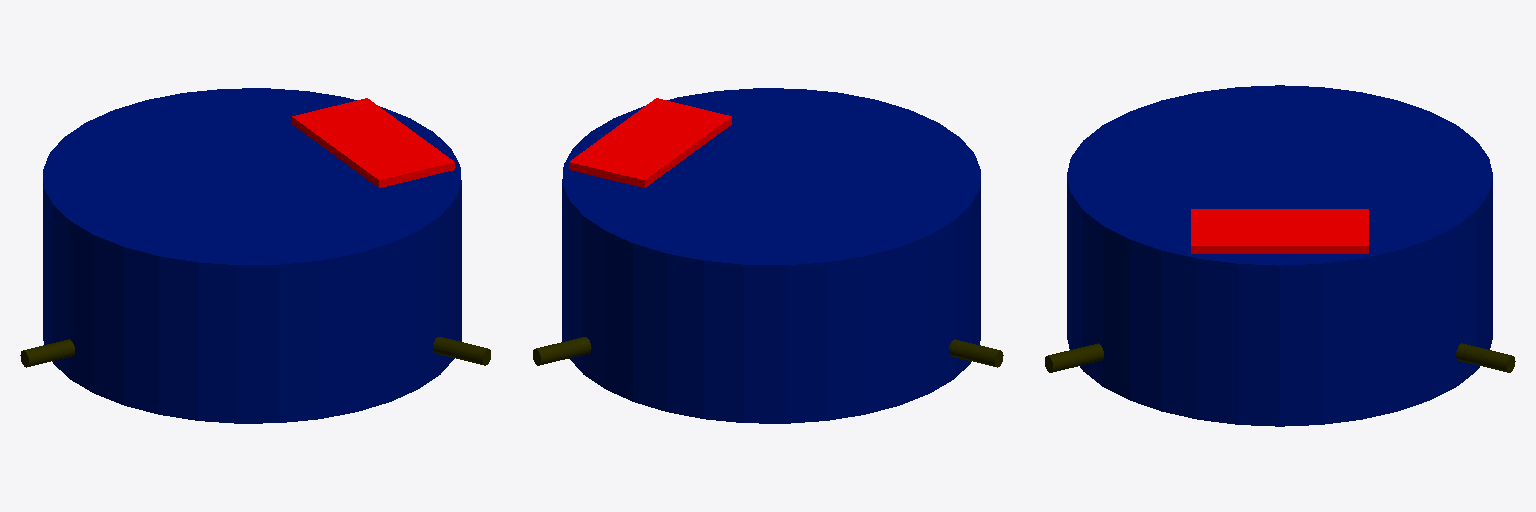
The robot description file, URDF, robot "Robot Omni":
<robot name="Robot Omni">
	<!-- CHASSIS LINK -->
	<link name="base_link">

		<inertial>
			<origin xyz="0 0 0.01" rpy="0 0 0"/>
			<mass value="1"/>
		</inertial>

		<visual name="chassis">
			<origin xyz="0 0 0.06" rpy="0 0 0"/>
			<geometry>
				<cylinder radius="0.12" length="0.1"/>
			</geometry>
			<material name="">
				<color rgba="0 0.1 0.5 1"/>
			</material>
		</visual>

		<visual name="front_flag">
			<origin xyz="0.08 0 0.11" rpy="0 0 0"/>
			<geometry>
				<box size="0.05 0.1 0.01"/>
			</geometry>
			<material name="">
				<color rgba="1 0 0 1"/>
			</material>
		</visual>

		<collision name="chassis">
			<origin xyz="0 0 0.06" rpy="0 0 0"/>
			<geometry>
				<cylinder radius="0.12" length="0.1"/>
			</geometry>
		</collision>

	</link>

	<!-- FRONT RIGHT WHEEL LINK -->
	<link name="wheel_1" extends="omni_wheel">

		<inertial>
			<mass value="0.1"/>
		</inertial>
		<visual name="">
			<origin xyz="0 0.05 0" rpy="1.57 0 0"/>
			<geometry>
				<cylinder radius="0.005" length="0.1"/>
			</geometry>
			<material name="">
				<color rgba="0.2 0.2 0 1"/>
			</material>
		</visual>
	</link>

	<joint name="wheel_1_joint" type="continuous">
		<origin xyz="0.08 -0.13 0.03" rpy="0 0 0.52"/>
		<parent link="base_link"/>
		<child link="wheel_1"/>
		<axis xyz="0.0 1.0 0.0"/>
		<limit effort="100" velocity="5.0"/>
	</joint>

	<!-- FRONT LEFT WHEEL LINK -->
	<link name="wheel_2" extends="omni_wheel">
		<inertial>
			<mass value="0.1"/>
		</inertial>
		<visual name="">
			<origin xyz="0 0.05 0" rpy="1.57 0 0"/>
			<geometry>
				<cylinder radius="0.005" length="0.1"/>
			</geometry>
			<material name="">
				<color rgba="0.2 0.2 0 1"/>
			</material>
		</visual>
	</link>

	<joint name="wheel_2_joint" type="continuous">
		<origin xyz="0.08 0.13 0.03" rpy="0 0 -3.67"/>
		<parent link="base_link"/>
		<child link="wheel_2"/>
		<axis xyz="0.0 1.0 0.0"/>
		<limit effort="100" velocity="5.0"/>
	</joint>

	<!-- BACK RIGHT WHEEL LINK -->
	<link name="wheel_3" extends="omni_wheel">
		<inertial>
			<mass value="0.1"/>
		</inertial>
		<visual name="">
			<origin xyz="0 0.05 0" rpy="1.57 0 0"/>
			<geometry>
				<cylinder radius="0.005" length="0.1"/>
			</geometry>
			<material name="">
				<color rgba="0.2 0.2 0 1"/>
			</material>
		</visual>
	</link>

	<joint name="wheel_3_joint" type="continuous">
		<origin xyz="-0.15 0 0.03" rpy="0 0 -1.57"/>
		<parent link="base_link"/>
		<child link="wheel_3"/>
		<axis xyz="0.0 1.0 0.0"/>
		<limit effort="100" velocity="5.0"/>
	</joint>

	<gobotics name="control_robot" type="3_omni_drive">
		<wheel_1 joint="wheel_1_joint"/>
		<wheel_2 joint="wheel_2_joint"/>
		<wheel_3 joint="wheel_3_joint"/>
		<max_speed value="8.0"/>
	</gobotics>

</robot>

--- Render facts (derived) ---
Views: 3 orthographic renders of the robot side by side, from view 1: azimuth 30°, elevation 25°; view 2: azimuth 150°, elevation 25°; view 3: azimuth 270°, elevation 25°.
Robot: Robot Omni — 4 links, 3 joints (3 continuous); root link base_link; default pose: all joints at 0.
Links seen in each view (by area): view 1: base_link, wheel_1, wheel_3; view 2: base_link, wheel_2, wheel_3; view 3: base_link, wheel_2, wheel_1.
Link boxes in pixels (x1,y1,x2,y2): base_link: (43, 88, 461, 423); wheel_1: (433, 337, 490, 365); wheel_3: (20, 339, 74, 367); base_link: (562, 88, 980, 423); wheel_2: (533, 337, 591, 365); wheel_3: (949, 339, 1003, 367); base_link: (1067, 85, 1492, 426); wheel_2: (1456, 343, 1515, 372); wheel_1: (1045, 343, 1103, 372).
Size in the robot's own frame: 0.27 by 0.265 by 0.105 metres.
Geometry: primitives only (box / cylinder / sphere), no mesh files.